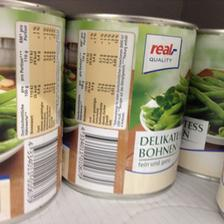Bohnen: (64, 7, 190, 201)
